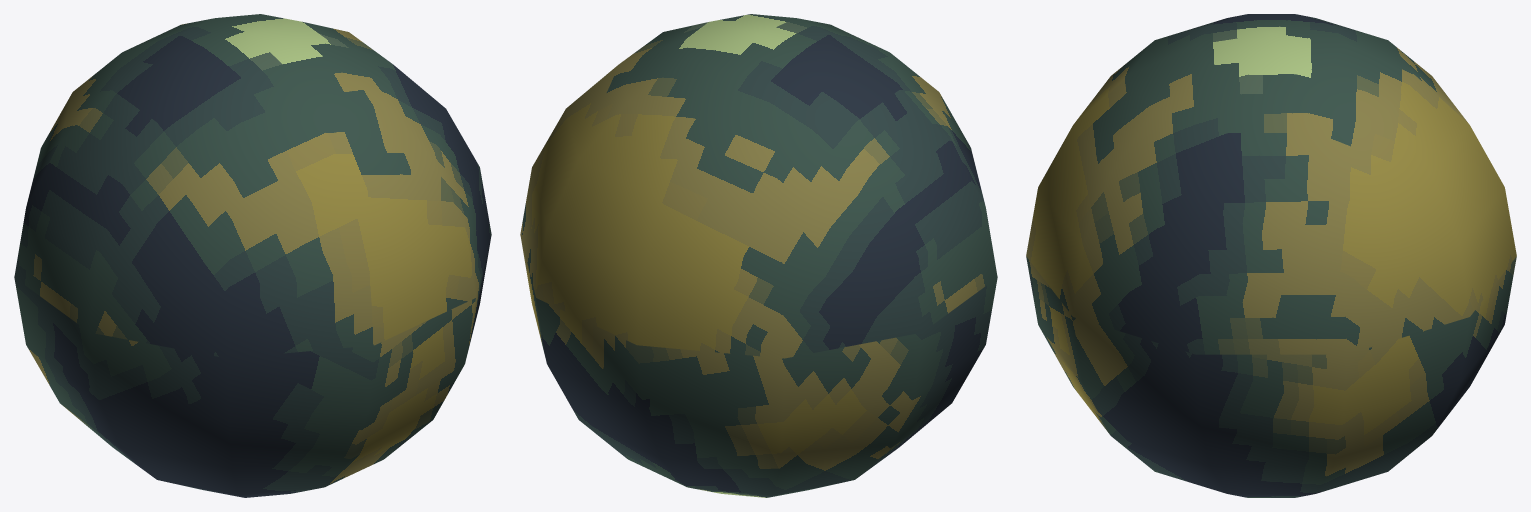
File: EarthColored.fbx
3 renders of one model, left to right at view 1: azimuth 30°, elevation 25°; view 2: azimuth 150°, elevation 25°; view 3: azimuth 270°, elevation 25°, orthographic.
Visible parts, largest first — view 1: Sphere; view 2: Sphere; view 3: Sphere.
Boxes of the visible parts, x1,y1,x2,y2 form: Sphere: (14, 14, 491, 497); Sphere: (520, 14, 997, 497); Sphere: (1026, 14, 1516, 497).
Size of the model in its own units: 190 by 200 by 200.
Materials: 1 (1 with a texture image).
